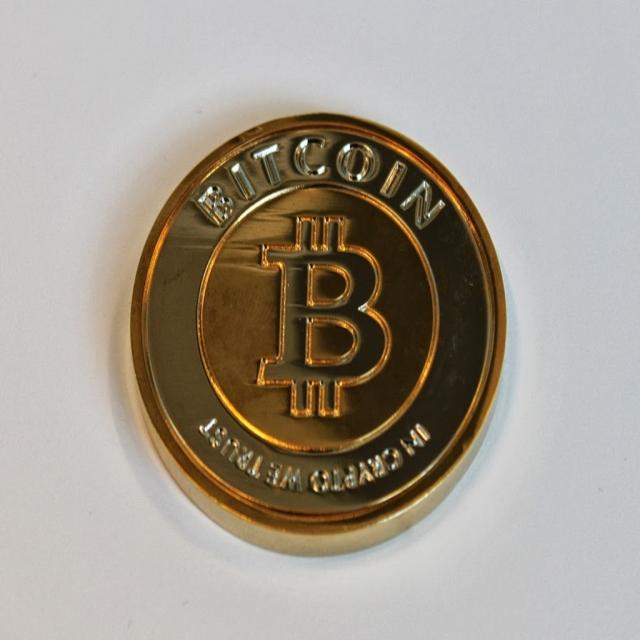Coin: (131, 111, 508, 558)
